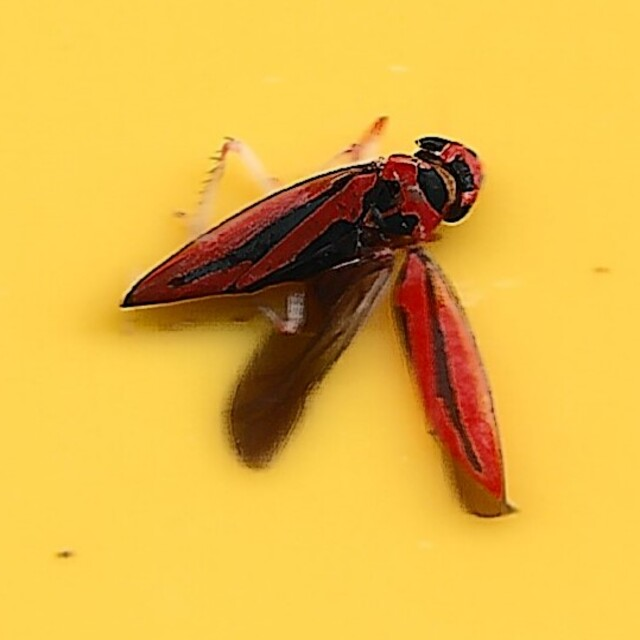Hemiptera: (119, 115, 521, 525)
